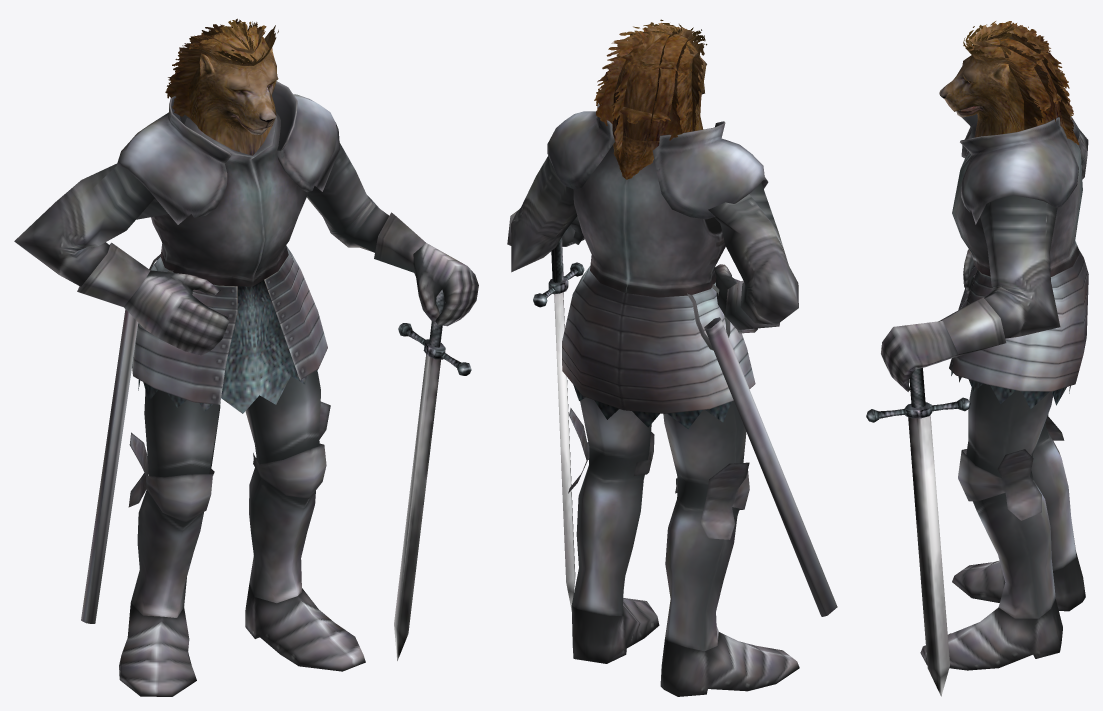
File: Leoknight.fbx
The picture shows the model from 3 angles, left to right: view 1: azimuth 30°, elevation 25°; view 2: azimuth 150°, elevation 25°; view 3: azimuth 270°, elevation 25°; orthographic projection. The views are drawn at different scales.
Visible parts, largest first — view 1: Limbs, Head, Sword, Sheath, Mane; view 2: Limbs, Head, Mane, Sheath, Sword; view 3: Limbs, Head, Sword, Mane.
Boxes of the visible parts, x1,y1,x2,y2 form: Limbs: (14, 81, 478, 696); Head: (132, 30, 327, 413); Sword: (394, 289, 471, 660); Sheath: (81, 309, 138, 623); Mane: (165, 18, 278, 117); Limbs: (507, 103, 799, 696); Head: (562, 31, 755, 428); Mane: (594, 19, 707, 179); Sheath: (704, 317, 837, 616); Sword: (533, 237, 584, 609); Limbs: (881, 114, 1088, 670); Head: (939, 30, 1088, 408); Sword: (866, 368, 970, 696); Mane: (963, 21, 1079, 144).
Size of the model in its own units: 969 by 1620 by 534.
Materials: 3 (3 with a texture image).
